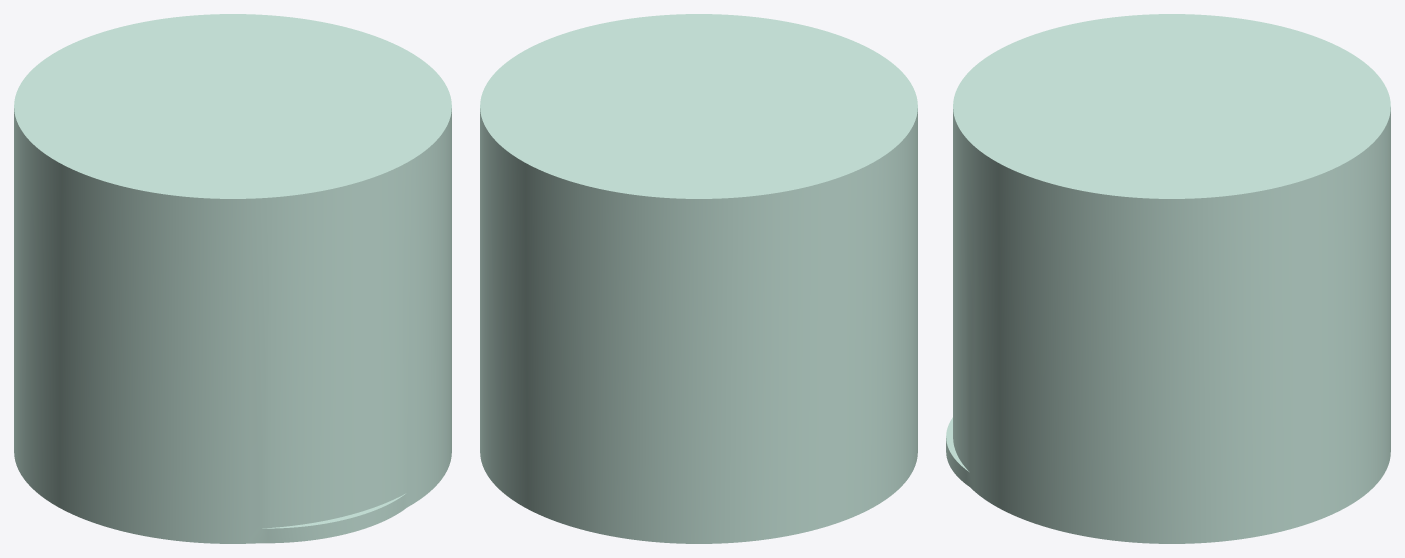
The picture shows the model from 3 angles, left to right: view 1: azimuth 30°, elevation 25°; view 2: azimuth 150°, elevation 25°; view 3: azimuth 270°, elevation 25°; orthographic projection.
Parts seen in each view (by area): view 1: Renderer Node; view 2: Renderer Node; view 3: Renderer Node.
Part boxes in pixels (<box>): Renderer Node: <box>14,14,451,543</box>; Renderer Node: <box>480,14,917,543</box>; Renderer Node: <box>946,14,1390,543</box>.
Bounding box in the file's own units: 0.8445 × 0.7344 × 0.8581.
